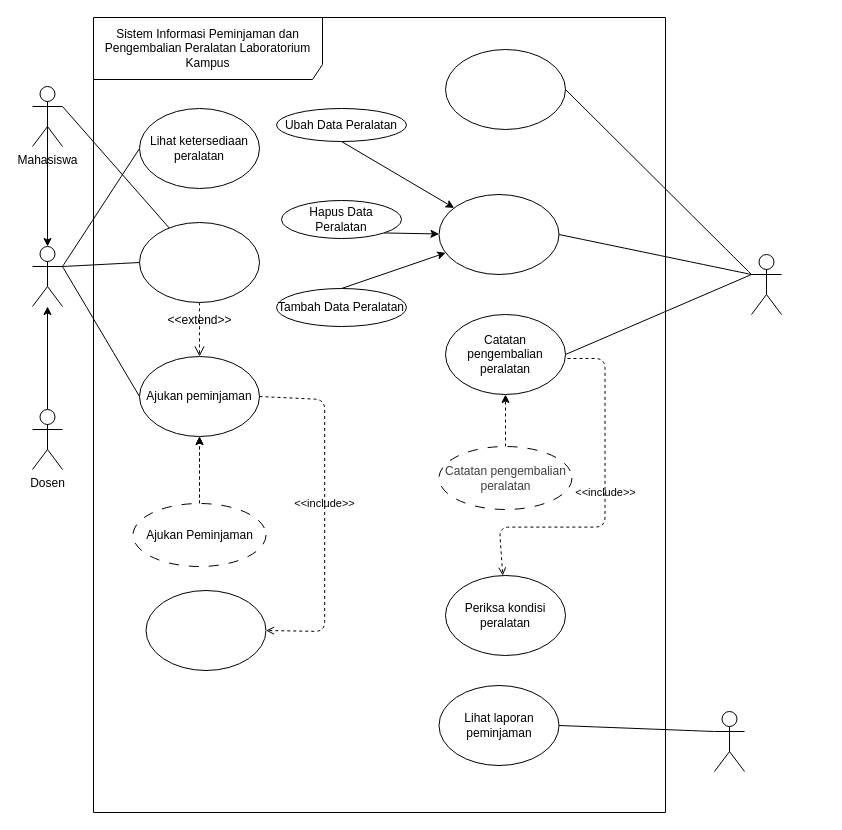
Some shapes in this 842 by 830 pixel diagram are drawn without their labels. Here are the shapes that lost their labels. From the top down, the centre of each, then its label:
At [505,89]: "Proses keputusan peminjaman".
At [498,234]: "Kelola data peralatan".
At [47,276]: "Peminjam".
At [199,262]: "Cetak bukti pengajuan".
At [766,284]: "Petugas Laboratorium".
At [205,630]: "Perikasa ketersediaan".
At [729,741]: "Kepala Laboratorium".
